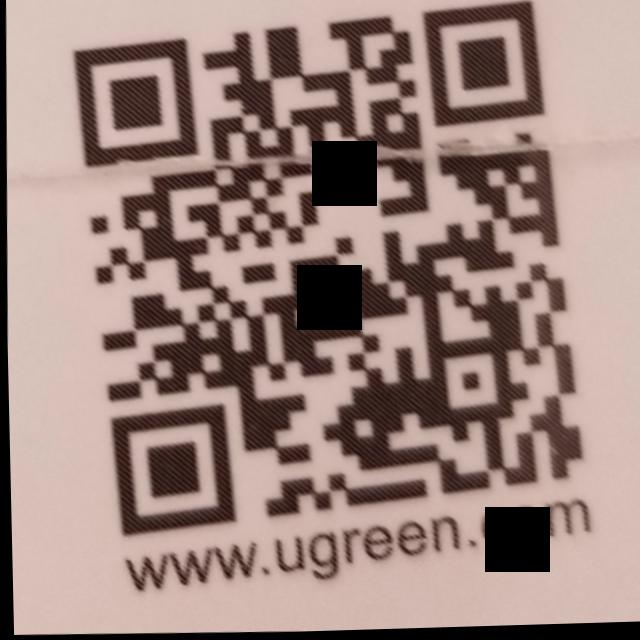QR_CODE: (51, 0, 600, 547)
